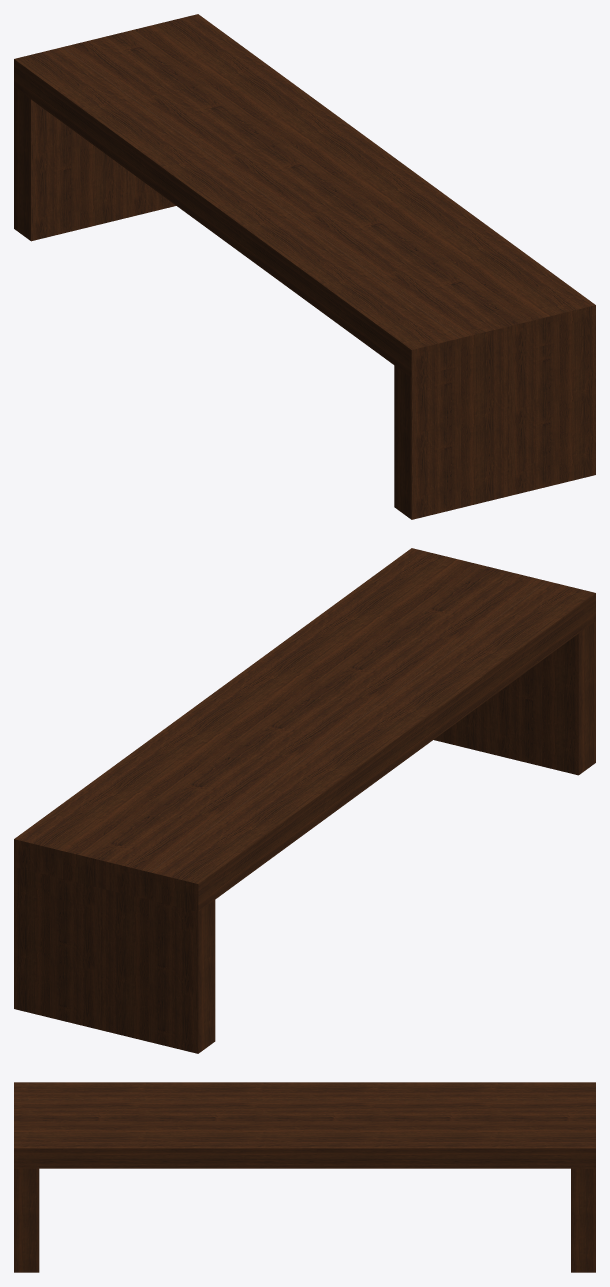
Rendered from Bench.fbx.
3 renders of one model, top to bottom at view 1: azimuth 30°, elevation 25°; view 2: azimuth 150°, elevation 25°; view 3: azimuth 270°, elevation 25°, orthographic. The views are drawn at different scales.
Visible parts, largest first — view 1: Bench:RoadKillOut; view 2: Bench:RoadKillOut; view 3: Bench:RoadKillOut.
Part boxes in pixels (bbox=[...]): Bench:RoadKillOut: bbox=[14, 14, 595, 519]; Bench:RoadKillOut: bbox=[14, 548, 595, 1053]; Bench:RoadKillOut: bbox=[14, 1082, 595, 1272].
Bounding box in the file's own units: 1 × 0.8809 × 3.74.
Materials: 1 (1 with a texture image).
